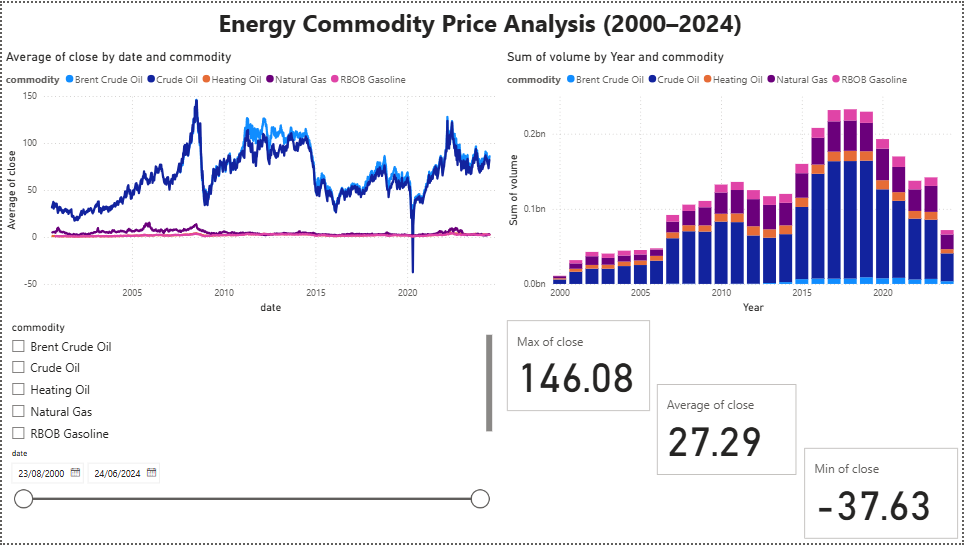

What the dashboard file says about the page in this screenshot:
{"tool":"powerbi","page":{"name":"Overview","canvas":[1280,720],"ordinal":0},"visuals":[{"type":"lineChart","fields":{"Y":["Avg(all_fuels_cleaned.close)"],"Series":["all_fuels_cleaned.commodity"],"Category":["all_fuels_cleaned.date"]},"box":[0,61.7,668.3,356.7],"z":0},{"type":"slicer","fields":{"Values":["all_fuels_cleaned.commodity"]},"box":[0,418.3,658.3,170],"z":1000},{"type":"slicer","fields":{"Values":["all_fuels_cleaned.date"]},"box":[0,588.3,658.3,131.7],"z":2000},{"type":"cardVisual","fields":{"Data":["Max(all_fuels_cleaned.close)"]},"box":[668.3,418.3,201.7,131.7],"z":3000},{"type":"cardVisual","fields":{"Data":["Min(all_fuels_cleaned.close)"]},"box":[1065,588.3,215,131.7],"z":4000},{"type":"cardVisual","fields":{"Data":["Avg(all_fuels_cleaned.close)"]},"box":[868.3,503.3,196.7,131.7],"z":5000},{"type":"columnChart","fields":{"Category":["all_fuels_cleaned.date.Variation.Date Hierarchy.Year","all_fuels_cleaned.date.Variation.Date Hierarchy.Quarter","all_fuels_cleaned.date.Variation.Date Hierarchy.Month","all_fuels_cleaned.date.Variation.Date Hierarchy.Day"],"Y":["Sum(all_fuels_cleaned.volume)"],"Series":["all_fuels_cleaned.commodity"]},"box":[668.3,61.7,611.7,356.7],"z":6000},{"type":"textbox","box":[283.3,0,770,61.7],"z":7000}]}

Visuals, with their boxes in screenshot pixels (x1, y1, x2, y2), scaled from the page's 1280x720 canvas onto the 965x546 screenshot:
lineChart - Avg(all_fuels_cleaned.close) x all_fuels_cleaned.commodity: region(0, 47, 504, 317)
slicer - all_fuels_cleaned.commodity: region(0, 317, 496, 446)
slicer - all_fuels_cleaned.date: region(0, 446, 496, 545)
cardVisual - Max(all_fuels_cleaned.close): region(504, 317, 656, 417)
cardVisual - Min(all_fuels_cleaned.close): region(803, 446, 964, 545)
cardVisual - Avg(all_fuels_cleaned.close): region(655, 382, 803, 482)
columnChart - all_fuels_cleaned.date.Variation.Date Hierarchy.Year x all_fuels_cleaned.date.Variation.Date Hierarchy.Quarter: region(504, 47, 964, 317)
textbox: region(214, 0, 794, 47)
